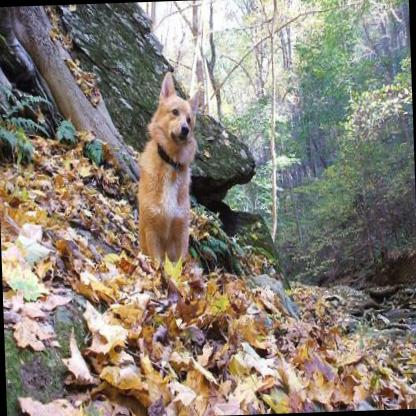Pembroke: (132, 68, 206, 268)
